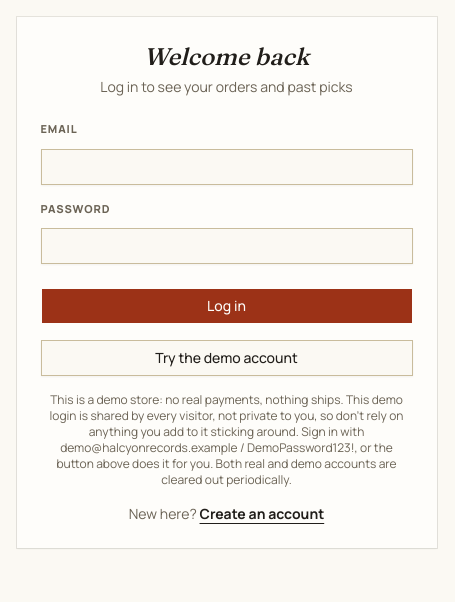
Test: LoginForm › shows a generic error banner on invalid credentials
Step 1. Type "user@example.com" into the field labelled "Email" → (226, 167), box [40,149,412,185]
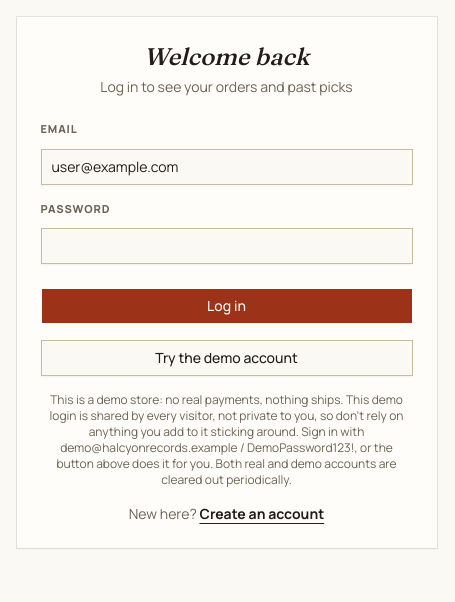
Step 2. Type "wrong-password" into the password field labelled "Password" → (226, 246), box [40,228,412,264]
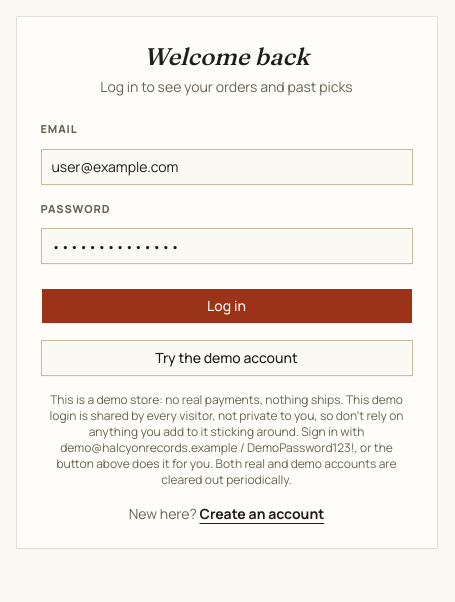
Step 3. Click the button "Log in" → (226, 306), box [40,288,412,324]
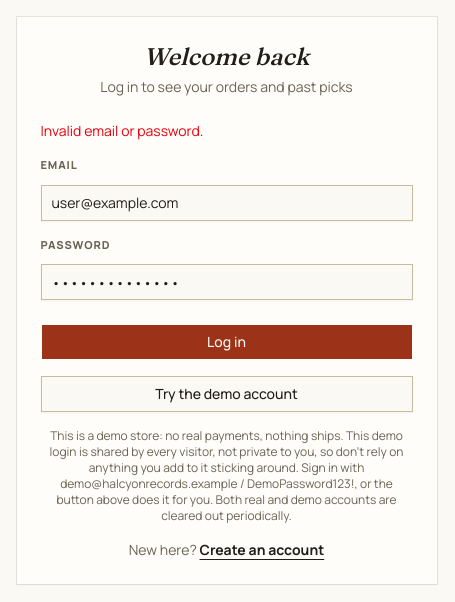
Result: the text "Invalid email or password." is shown at [40,121,203,140]
